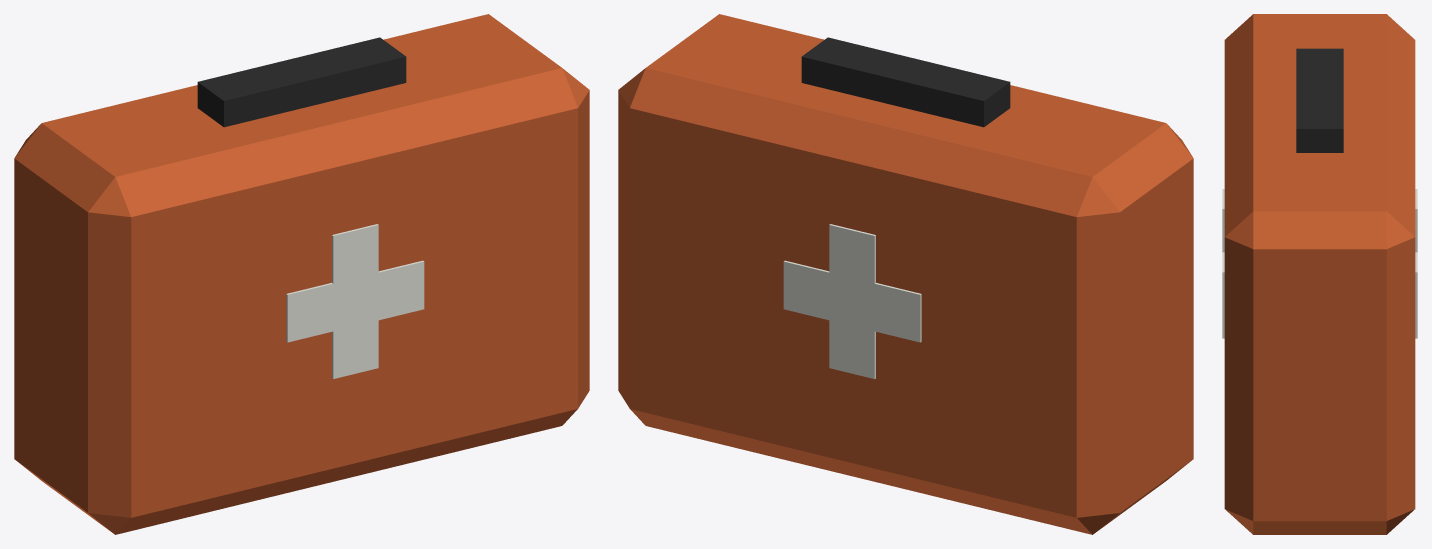
Rendered from first_aid.glb.
3 views of the same model, side by side, from view 1: azimuth 30°, elevation 25°; view 2: azimuth 150°, elevation 25°; view 3: azimuth 270°, elevation 25° (orthographic). The views are drawn at different scales.
Parts seen in each view (by area): view 1: Item; view 2: Item; view 3: Item.
Part boxes in pixels (<box>): Item: <box>14,14,589,534</box>; Item: <box>618,14,1193,534</box>; Item: <box>1222,14,1417,534</box>.
Size of the model in its own units: 0.22 by 0.161 by 0.082.
